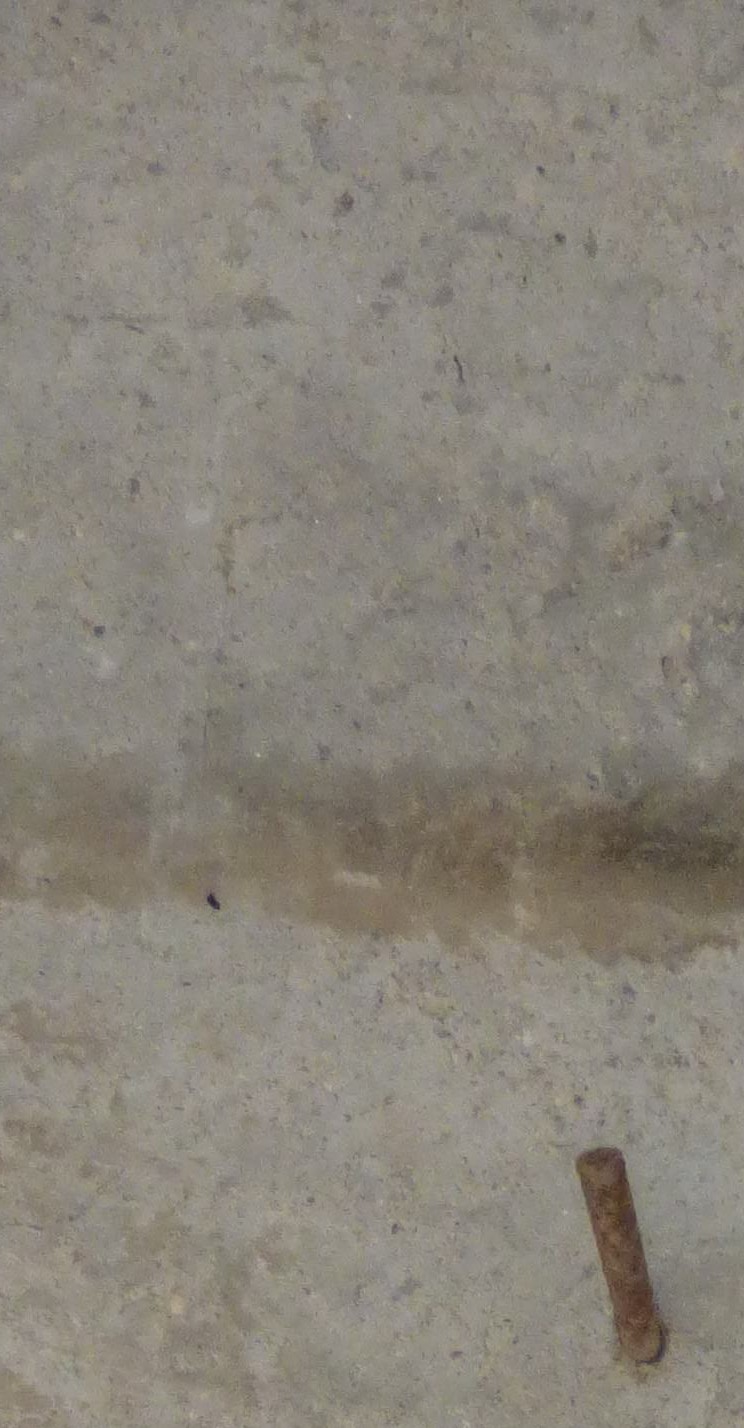Corrosion: (1, 743, 744, 972)
Exposed reinforcement: (576, 1147, 661, 1361)
